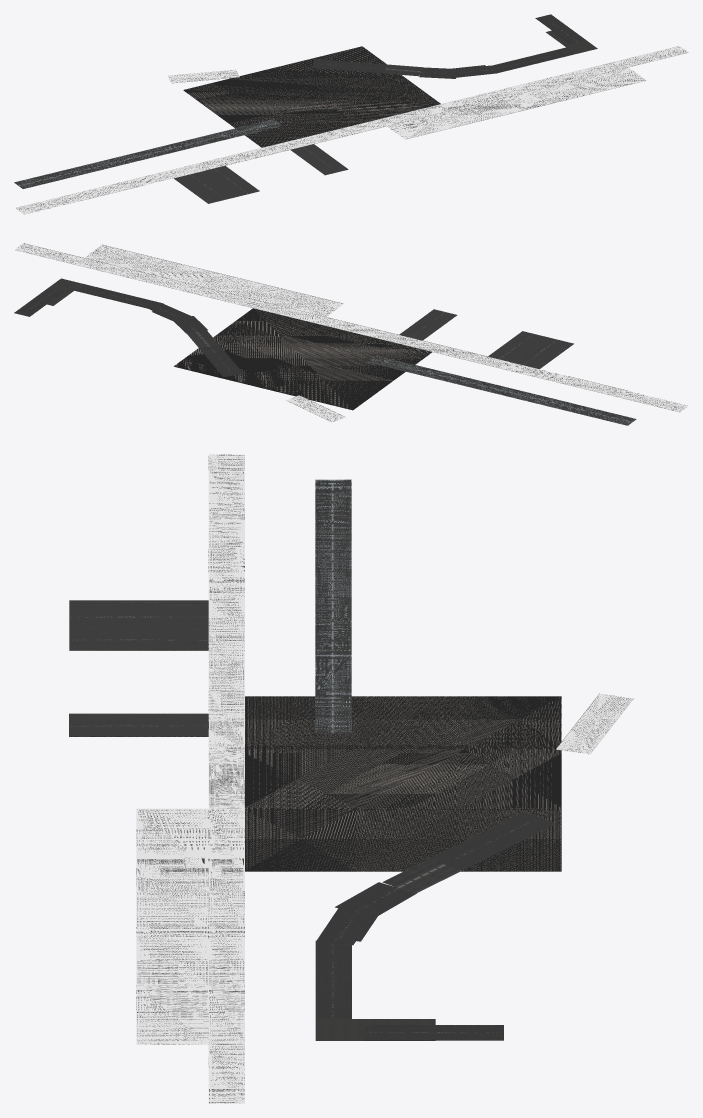
Rendered from Calles.fbx.
3 views of the same model, one above another, from view 1: azimuth 30°, elevation 25°; view 2: azimuth 150°, elevation 25°; view 3: azimuth 270°, elevation 25° (orthographic). The views are drawn at different scales.
Visible parts, largest first — view 1: Group35, Group24, Group25, Group23, Group22, Group18, Group27, Group26, Group19, Group2, Group3, Group6 (+21 smaller); view 2: Group35, Group22, Group24, Group25, Group23, Group18, Group27, Group26, Group14, Group4, Group7, Group17 (+21 smaller); view 3: Group35, Group22, Group23, Group24, Group25, Group18, Group26, Group27, Group20, Group2, Group3, Group4 (+21 smaller).
Part boxes in pixels (bbox=[...]): Group35: bbox=[183, 46, 440, 147]; Group24: bbox=[508, 82, 585, 109]; Group25: bbox=[447, 97, 525, 124]; Group23: bbox=[568, 67, 646, 95]; Group22: bbox=[387, 111, 464, 139]; Group18: bbox=[290, 144, 348, 175]; Group27: bbox=[202, 165, 259, 196]; Group26: bbox=[178, 171, 235, 202]; Group19: bbox=[168, 69, 239, 83]; Group2: bbox=[14, 167, 83, 188]; Group3: bbox=[135, 138, 203, 159]; Group6: bbox=[506, 47, 574, 68]; Group35: bbox=[174, 308, 432, 410]; Group22: bbox=[266, 289, 343, 316]; Group24: bbox=[145, 259, 222, 287]; Group25: bbox=[205, 274, 282, 301]; Group23: bbox=[84, 244, 162, 272]; Group18: bbox=[399, 309, 457, 340]; Group27: bbox=[488, 331, 545, 362]; Group26: bbox=[511, 337, 569, 367]; Group14: bbox=[559, 376, 627, 397]; Group4: bbox=[507, 389, 575, 410]; Group7: bbox=[317, 317, 385, 338]; Group17: bbox=[14, 243, 83, 264]; Group35: bbox=[245, 696, 561, 871]; Group22: bbox=[136, 808, 208, 867]; Group23: bbox=[136, 985, 208, 1044]; Group24: bbox=[136, 926, 208, 985]; Group25: bbox=[136, 867, 208, 926]; Group18: bbox=[69, 713, 208, 736]; Group26: bbox=[69, 605, 208, 627]; Group27: bbox=[69, 628, 208, 650]; Group20: bbox=[364, 1025, 503, 1040]; Group2: bbox=[315, 479, 351, 538]; Group3: bbox=[315, 597, 351, 656]; Group4: bbox=[315, 538, 351, 597].
Bounding box in the file's own units: 476 × 0.5674 × 175.
